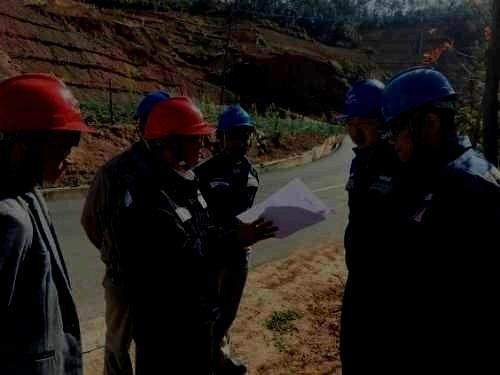helmet: (1, 71, 97, 185), (377, 66, 462, 164), (144, 95, 214, 166), (335, 78, 385, 153), (215, 103, 256, 157), (134, 91, 171, 132)
